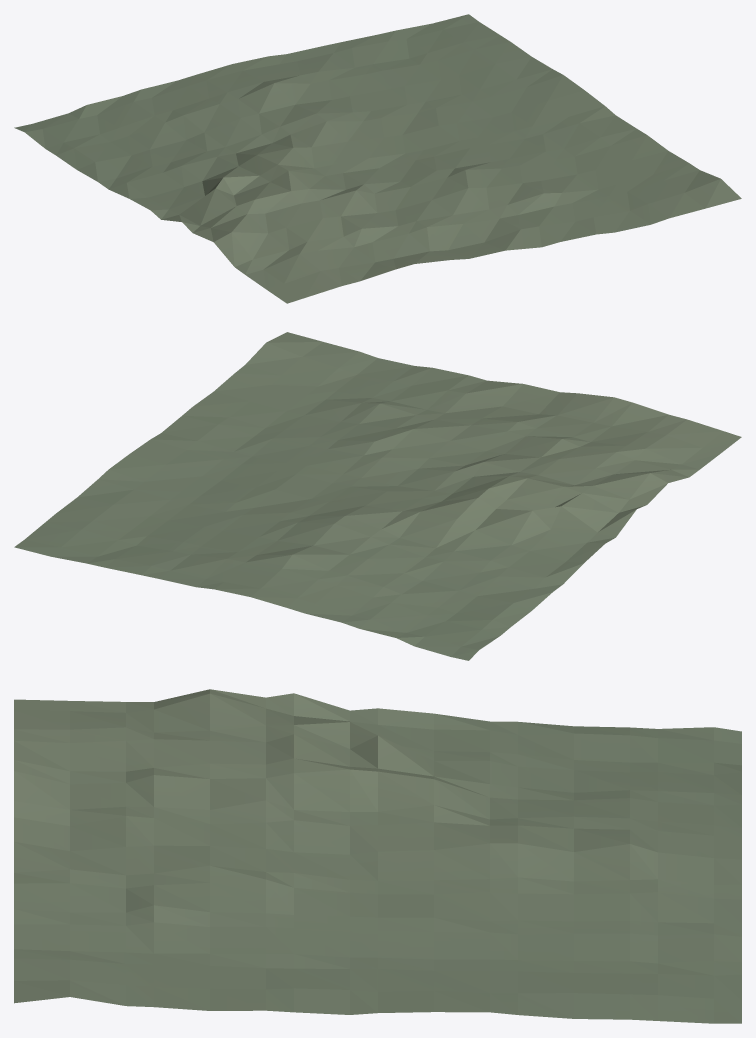
Rendered from tile_2_0.glb.
3 renders of one model, top to bottom at view 1: azimuth 30°, elevation 25°; view 2: azimuth 150°, elevation 25°; view 3: azimuth 270°, elevation 25°, orthographic. The views are drawn at different scales.
Parts seen in each view (by area): view 1: geometry_0; view 2: geometry_0; view 3: geometry_0.
Part boxes in pixels (x1,y1,x2,y2): geometry_0: (14,14,741,303); geometry_0: (14,332,741,660); geometry_0: (14,689,741,1023).
Bounding box in the file's own units: 123 × 9.72 × 127.
